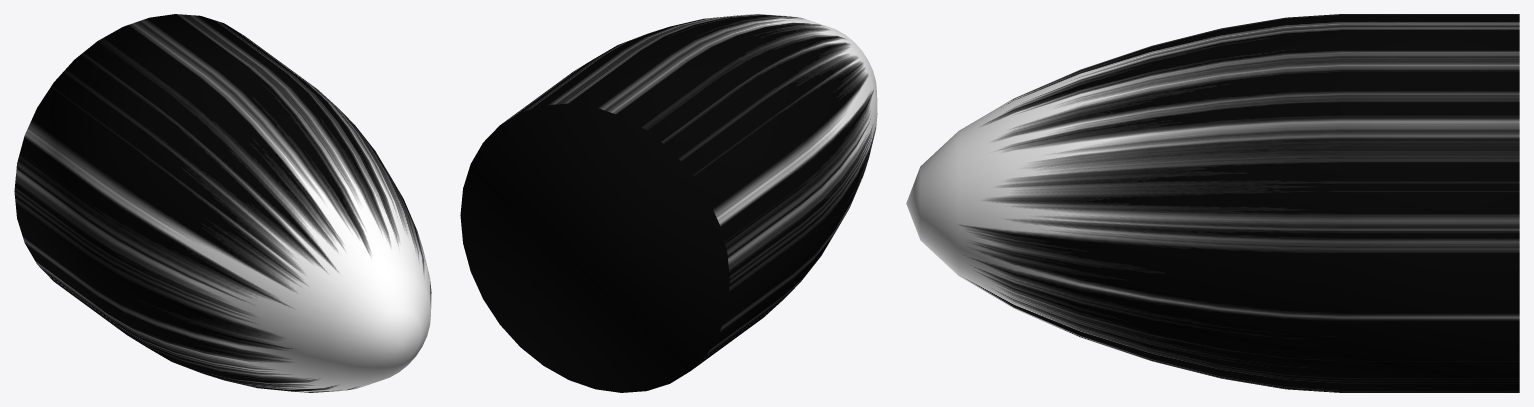
The model's file is Bullet_Effect.fbx.
The picture shows the model from 3 angles, left to right: view 1: azimuth 30°, elevation 25°; view 2: azimuth 150°, elevation 25°; view 3: azimuth 270°, elevation 25°; orthographic projection. The views are drawn at different scales.
Visible parts, largest first — view 1: 球; view 2: 球; view 3: 球.
Part boxes in pixels (<box>): 球: <box>14,14,431,392</box>; 球: <box>460,14,877,392</box>; 球: <box>906,14,1519,392</box>.
Bounding box in the file's own units: 200 × 200 × 323.
1 material, 1 textured.
